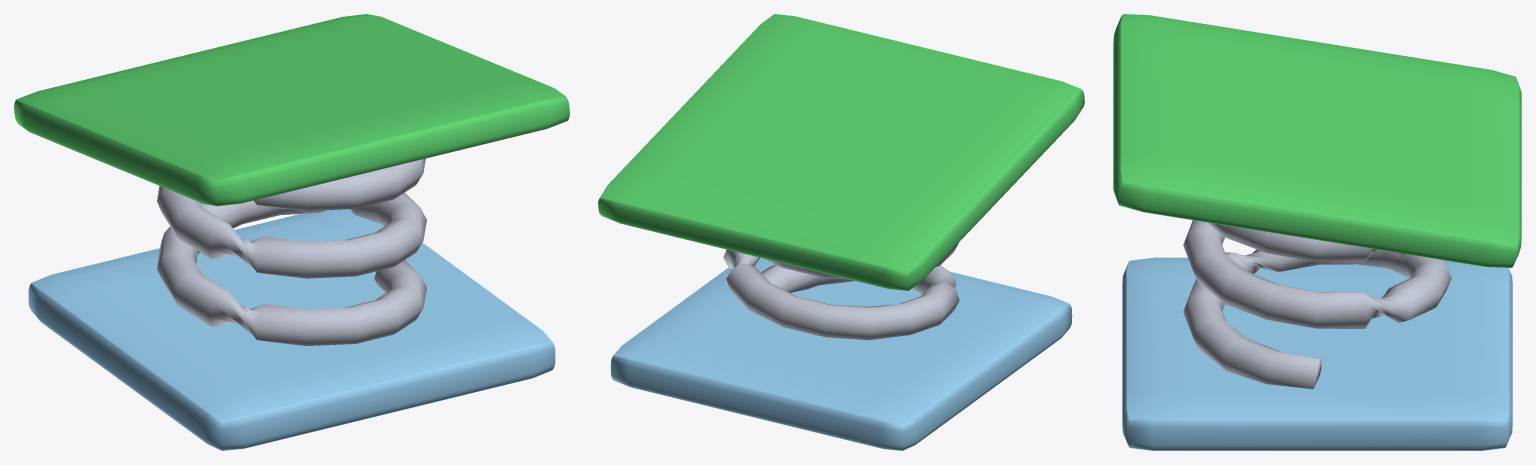
The model's file is DiceDashSpring.obj.
3 renders of one model, left to right at view 1: azimuth 30°, elevation 25°; view 2: azimuth 150°, elevation 25°; view 3: azimuth 270°, elevation 25°, orthographic. The views are drawn at different scales.
Parts seen in each view (by area): view 1: Plate, Base, Coil; view 2: Plate, Base, Coil; view 3: Plate, Base, Coil.
Boxes of the visible parts, x1=… form: Plate: x1=14, y1=14, x2=569, y2=206; Base: x1=28, y1=209, x2=555, y2=450; Coil: x1=157, y1=158, x2=426, y2=345; Plate: x1=598, y1=14, x2=1084, y2=290; Base: x1=610, y1=258, x2=1072, y2=450; Coil: x1=723, y1=243, x2=959, y2=340; Plate: x1=1113, y1=14, x2=1521, y2=267; Base: x1=1122, y1=257, x2=1512, y2=450; Coil: x1=1183, y1=220, x2=1451, y2=388.
Size of the model in its own units: 3.6 by 2.69 by 3.56.
